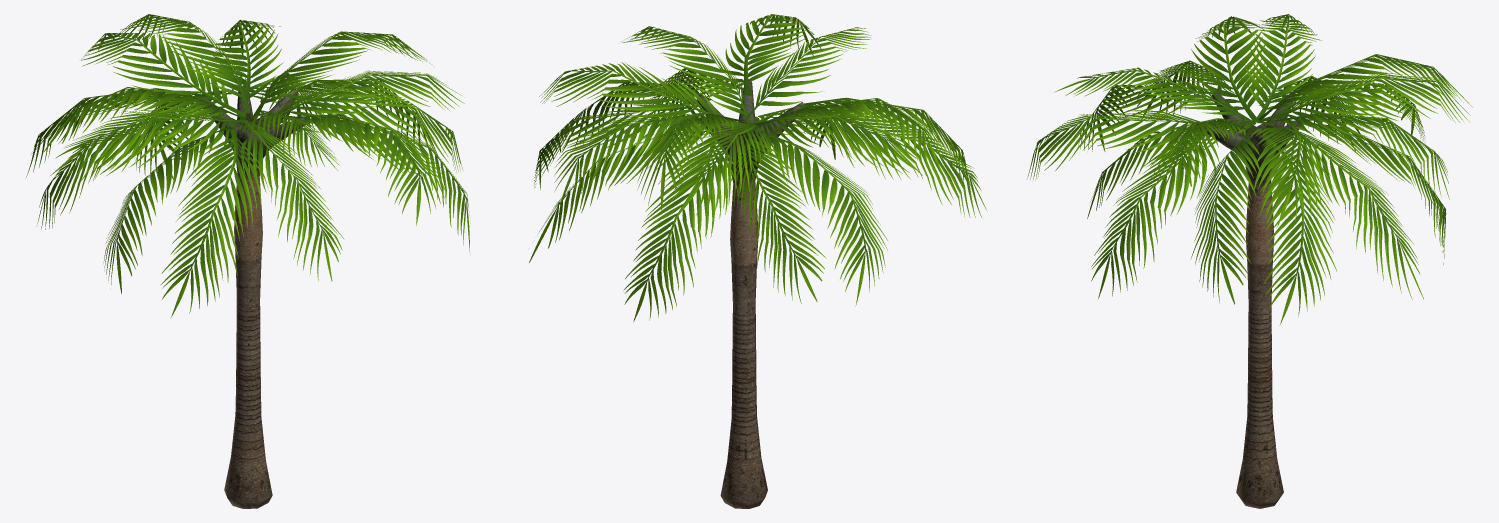
Rendered from Palm Tree.fbx.
3 views of the same model, side by side, from view 1: azimuth 30°, elevation 25°; view 2: azimuth 150°, elevation 25°; view 3: azimuth 270°, elevation 25° (orthographic). The views are drawn at different scales.
Visible parts, largest first — view 1: Cube; view 2: Cube; view 3: Cube.
Boxes of the visible parts, x1=… form: Cube: x1=25, y1=14, x2=469, y2=508; Cube: x1=529, y1=14, x2=986, y2=508; Cube: x1=1027, y1=14, x2=1472, y2=508.
Size of the model in its own units: 566 by 568 by 557.
Materials: 2 (2 with a texture image).
